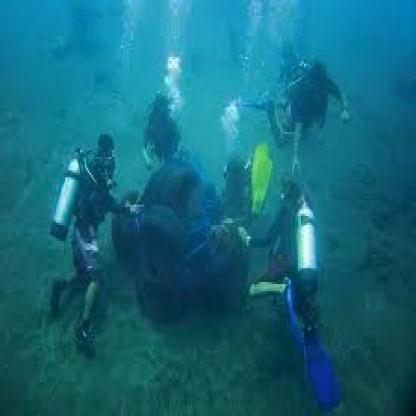tire: (138, 191, 192, 282), (142, 161, 195, 214)
